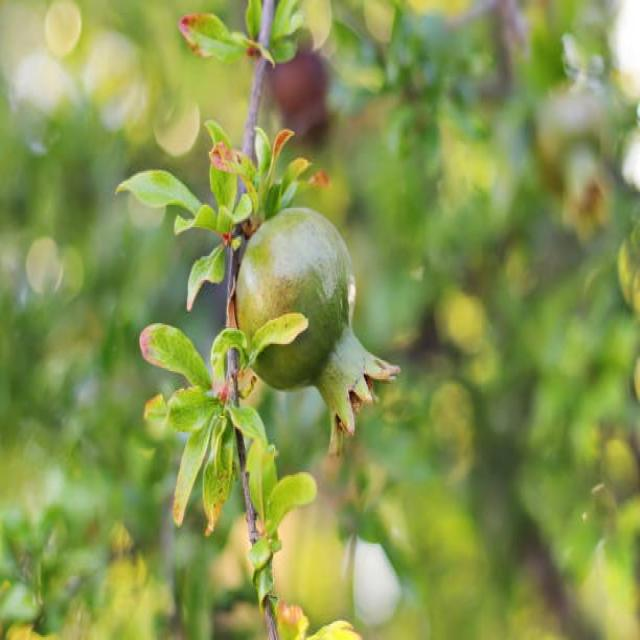Unripe: (235, 207, 398, 455)
